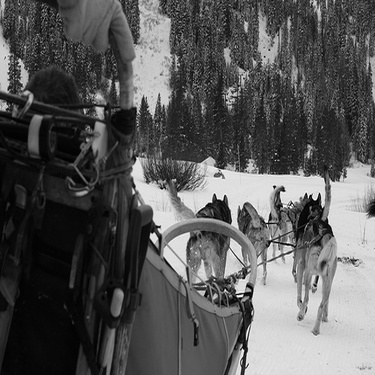dog: (135, 166, 235, 295), (280, 209, 342, 342), (215, 194, 273, 292), (247, 177, 299, 259), (303, 190, 342, 297), (292, 183, 324, 255)
